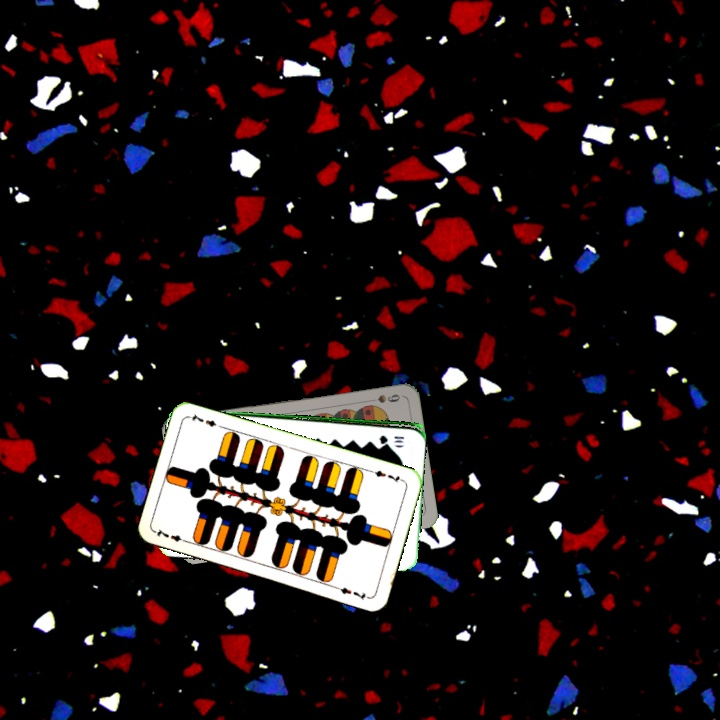E7: (152, 525, 191, 546), (366, 466, 406, 486)
G10: (375, 431, 406, 445)
S9: (363, 390, 403, 406)
